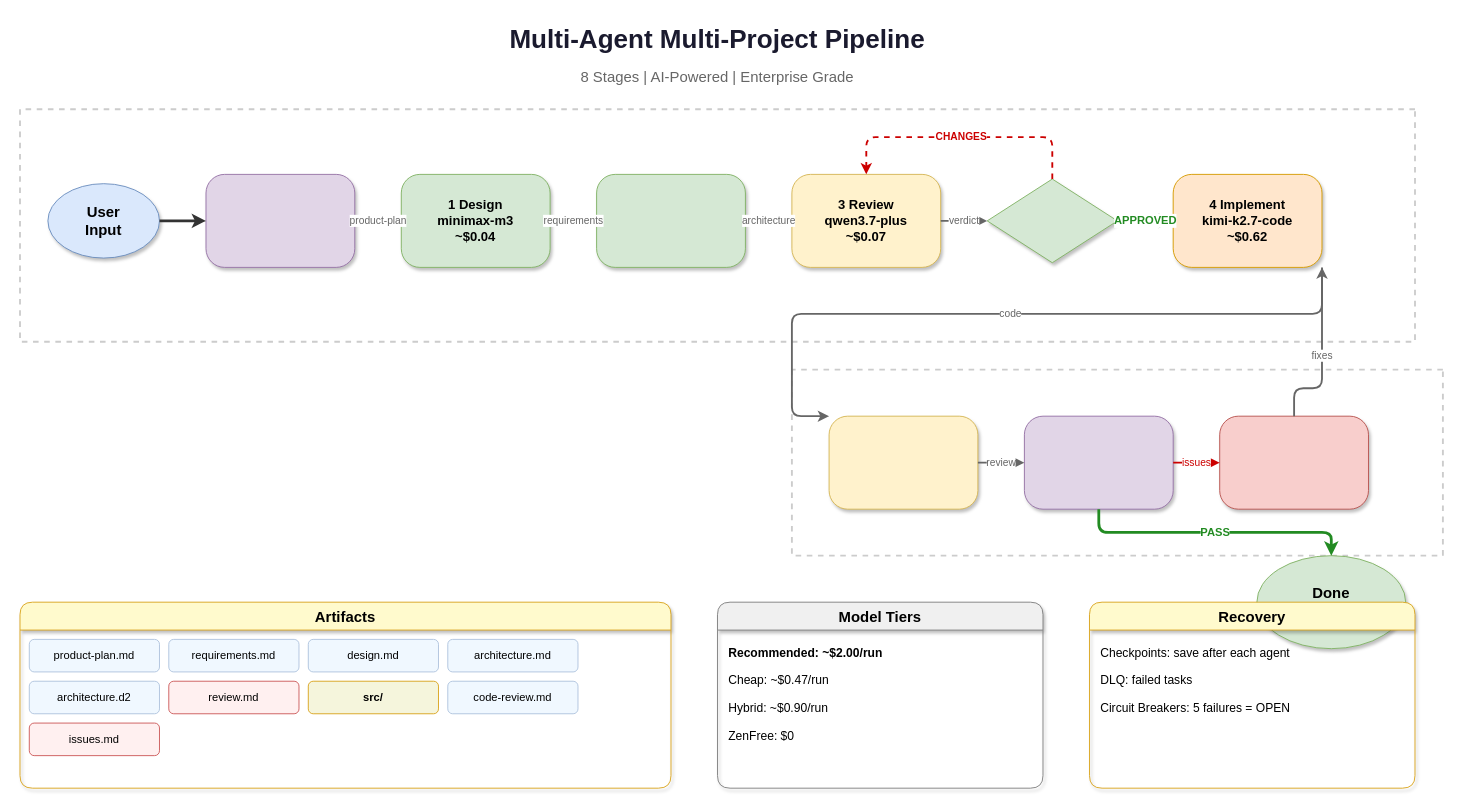
Some shapes in this 1460 by 811 pixel diagram are drawn without their labels. Here are the shapes that lost their labels. From the top down, the centre of each, then its label:
At (x=280, y=222): "0 Ideation mimo-v2.5 ~$0.02".
At (x=671, y=222): "2 Architect qwen3.7-max ~$0.53".
At (x=1053, y=221): "Approved?".
At (x=903, y=464): "5 Code Review kimi-k2.7-code ~$0.37".
At (x=1099, y=464): "6 Validate deepseek-v4-flash ~$0.04".
At (x=1294, y=464): "7 Fix kimi-k2.7-code ~$0.31".
